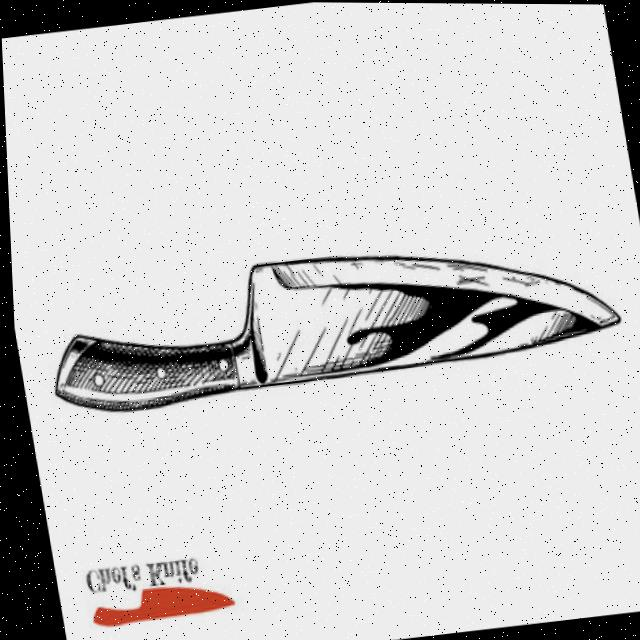knife: (23, 215, 629, 428)
